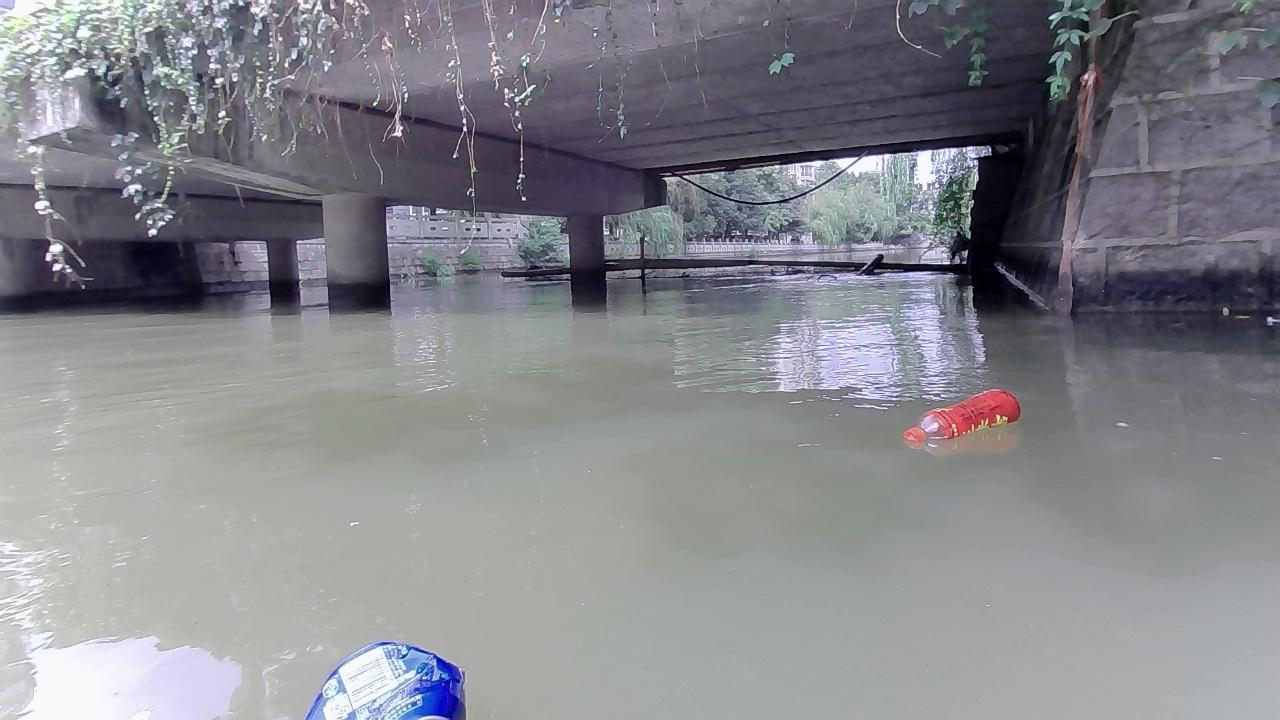Metal: (301, 640, 469, 720)
Plastic: (902, 386, 1023, 442)
